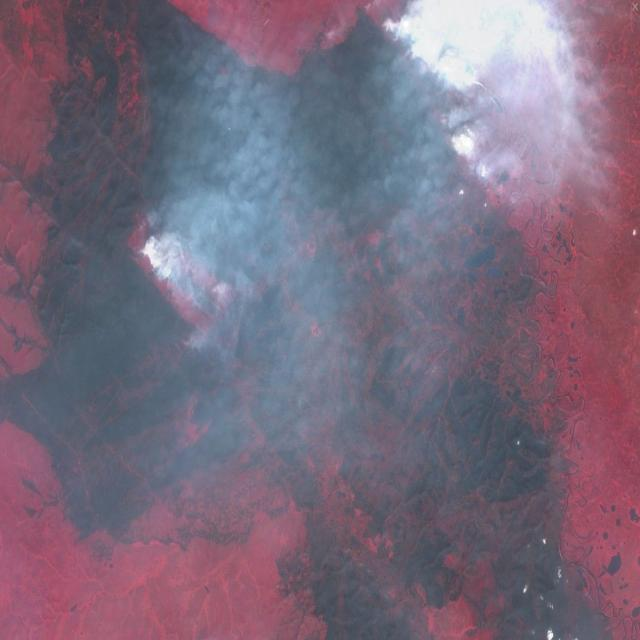fire: (370, 0, 480, 152), (130, 238, 162, 287)
